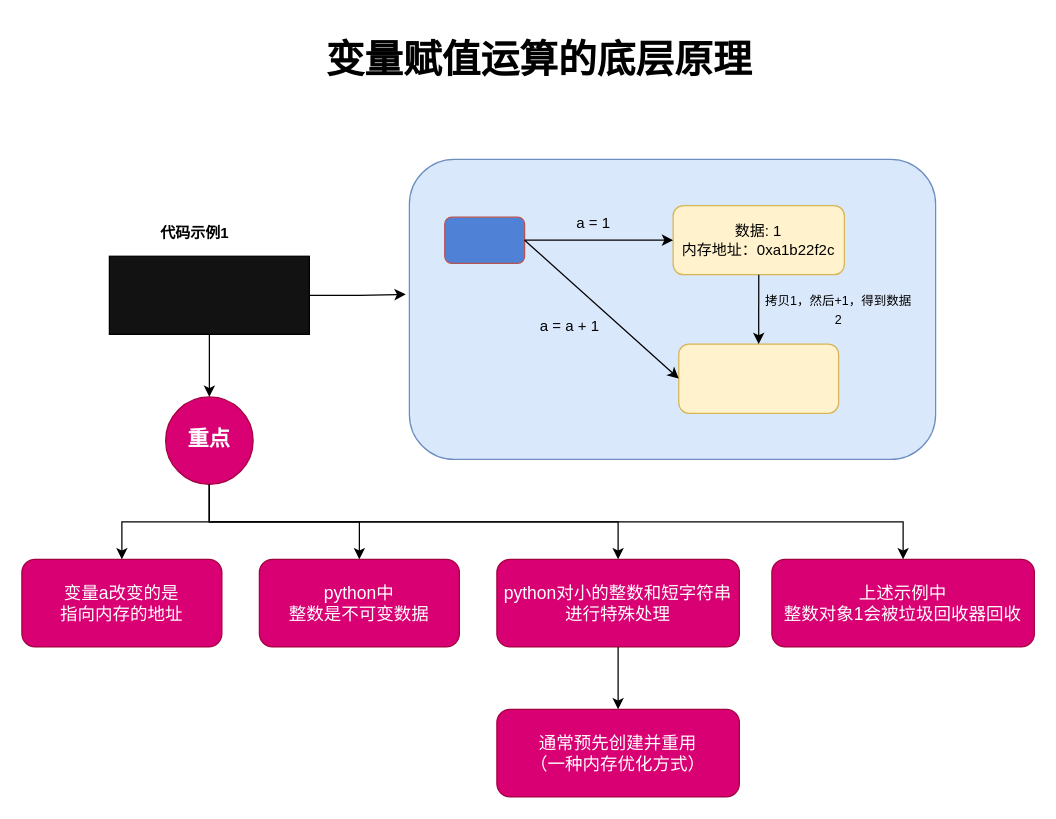
Image size: 1056x819. Some labels were removed from this diagram. Each missing label, with the centre of its shape:
a = 1 a = a + 1: the point at 208,294
变量a: the point at 484,239
数据：2 内存地址：0xa1b22f2d: the point at 758,378
